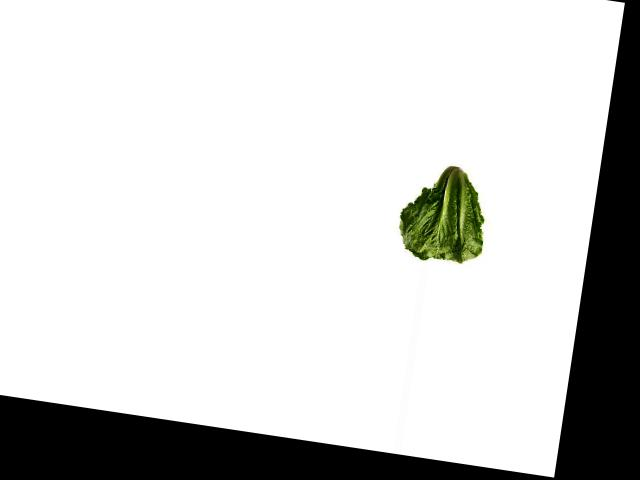lettuce: (391, 154, 491, 269)
